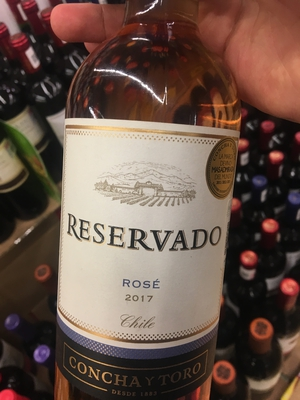reservado rose: (50, 7, 243, 400)
